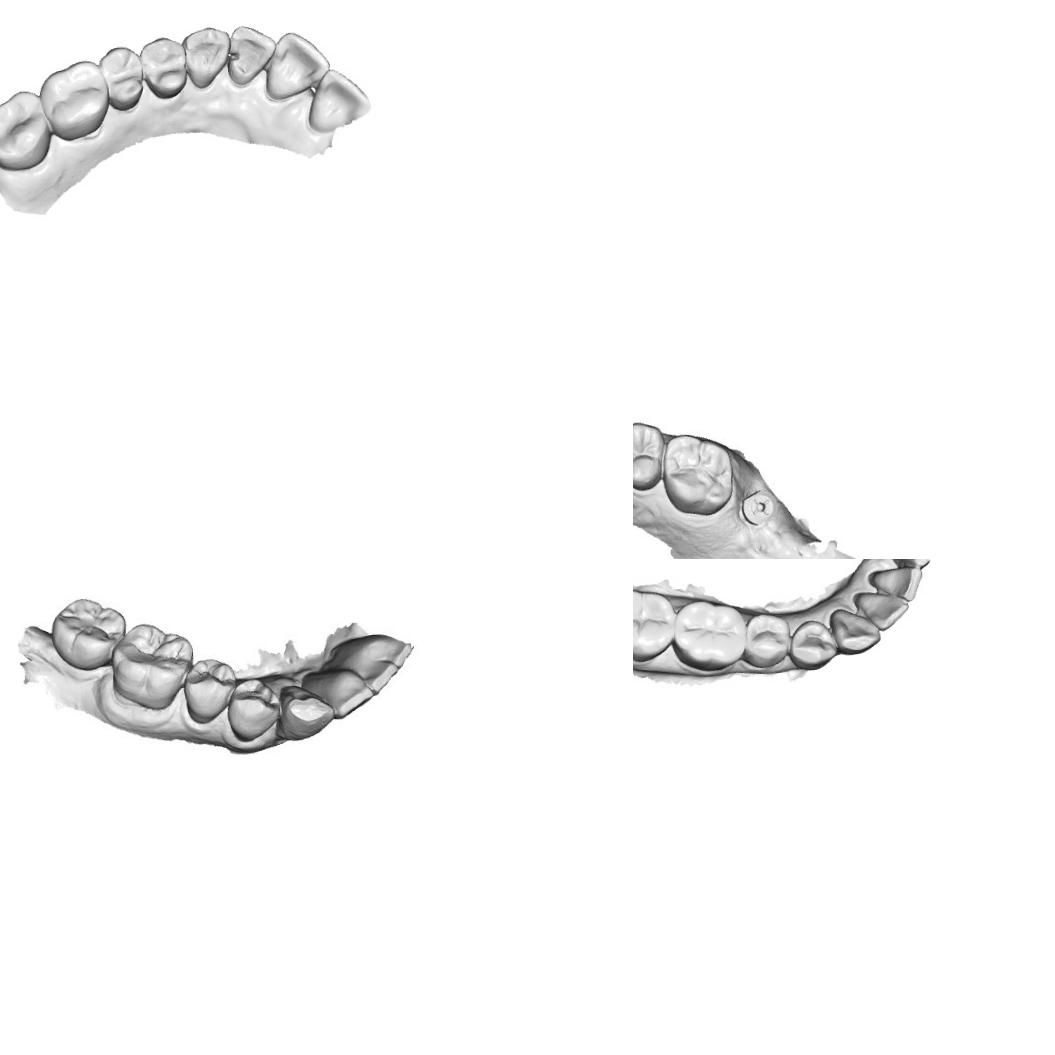canine: (269, 680, 334, 745), (178, 24, 234, 90), (826, 604, 882, 656)
implant_plus: (739, 486, 779, 534)
incisor: (260, 28, 332, 102), (302, 64, 373, 136), (302, 664, 370, 720), (224, 22, 278, 86), (340, 642, 398, 698), (851, 588, 912, 634), (868, 564, 924, 606)
molar: (656, 430, 739, 518), (112, 620, 192, 708), (35, 56, 112, 144), (668, 596, 750, 674), (48, 594, 125, 674), (0, 85, 55, 173), (633, 584, 677, 664)
premolar: (177, 650, 233, 726), (221, 680, 280, 744), (137, 33, 189, 101), (97, 42, 145, 112), (741, 610, 791, 671), (786, 616, 837, 672), (633, 417, 670, 494)
